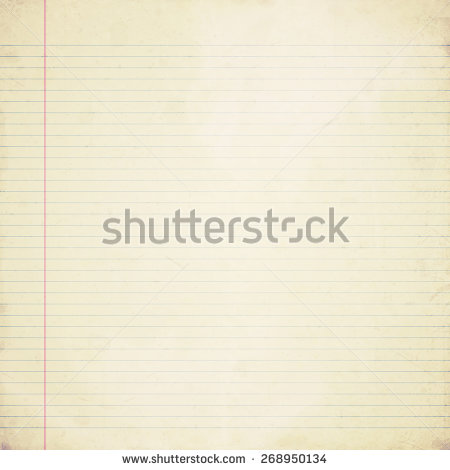Rec_Paper: (14, 1, 442, 443)
